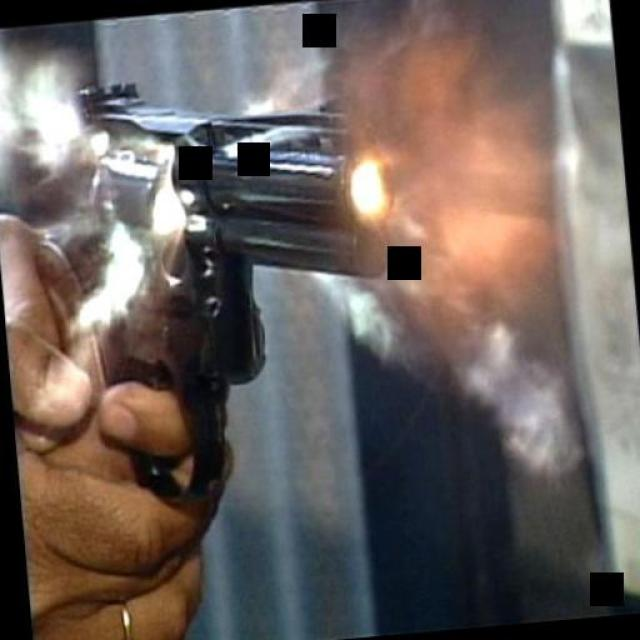gun: (10, 54, 420, 514)
